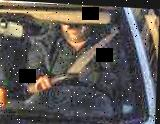seatbelt: (71, 22, 115, 72)
